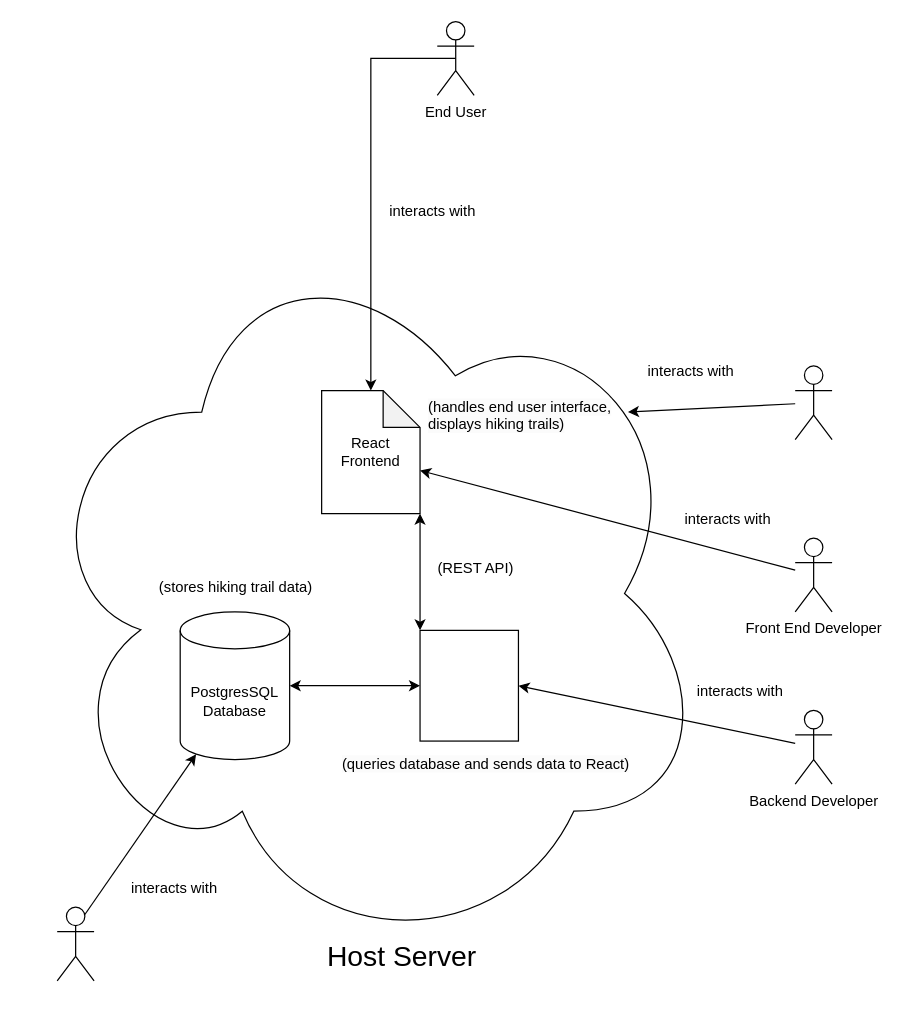
The diagram is 903 pixels wide and 1028 high, and some of its shapes have lost their labels. The shapes that lost their labels are listed below. From the top down, each one's centre as x and y in pixels, then its label:
the point at 813,402: Server Admin
the point at 468,685: Django Backend
the point at 75,943: Database Admin
